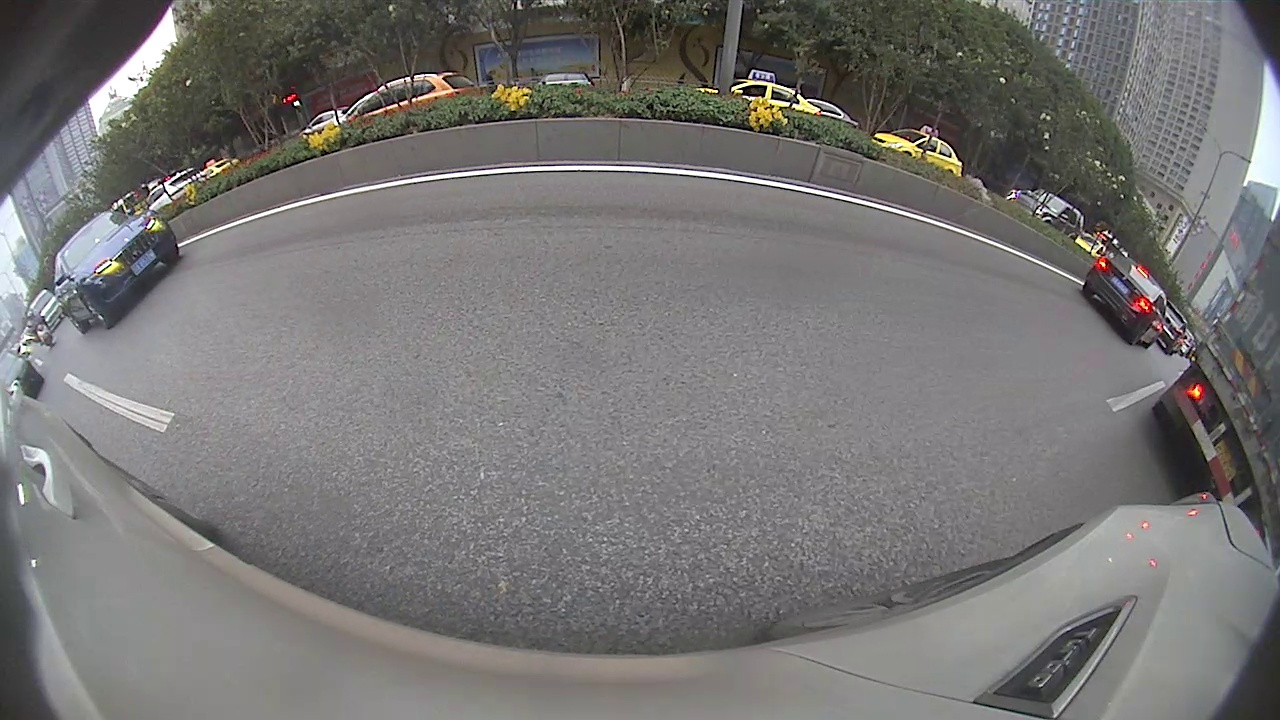car: (1, 286, 191, 452), (335, 158, 503, 257), (656, 148, 724, 196), (539, 160, 581, 190)
front: (132, 308, 172, 351), (488, 192, 502, 216)
rear: (17, 407, 57, 455), (424, 204, 448, 240)
